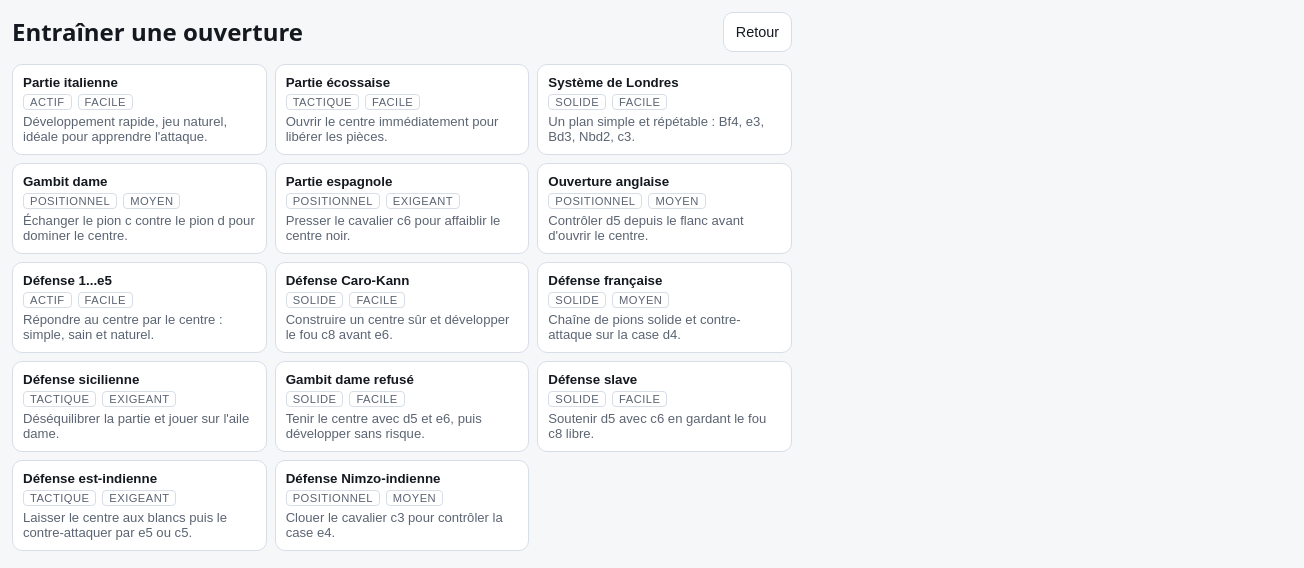
Test: entrainement d’ouverture : coup theorique › cache a nouveau le coup a la demande
The width and height of the screenshot is (1304, 568).
Click the button "Partie italienne" at (139, 110), box [12,64,267,155]
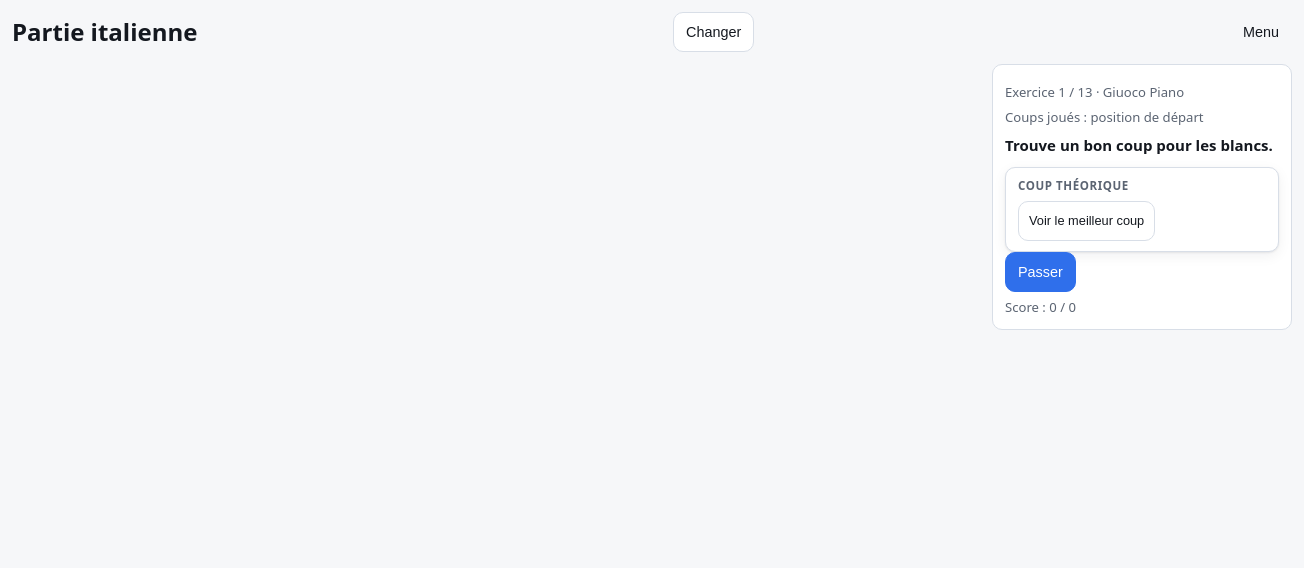
Click the button with test id "show-best-move" at (1087, 220), box [1018,200,1155,240]
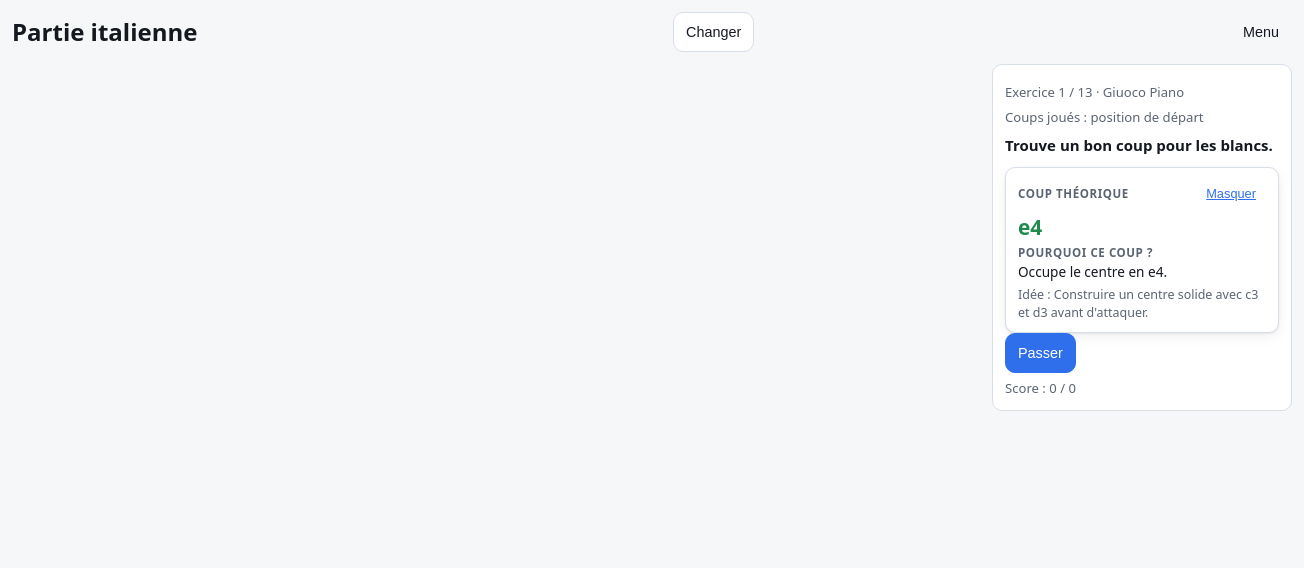
Click the button "Masquer" at (1231, 194), box [1196,178,1266,210]
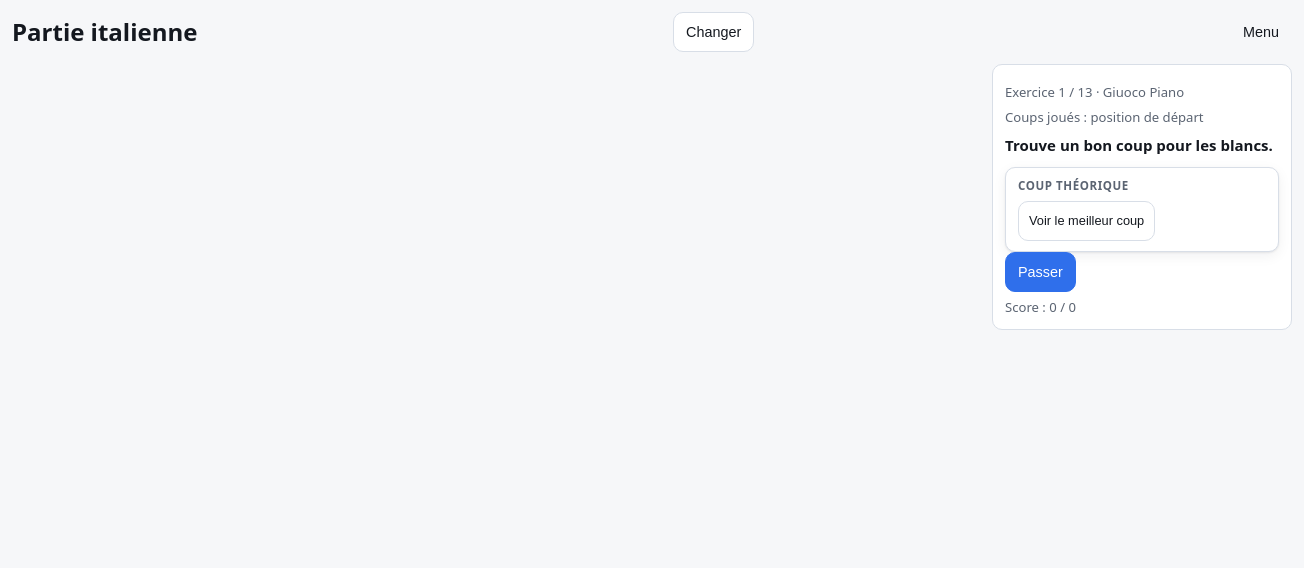
Check: the element with test id "best-move-detail" is gone
